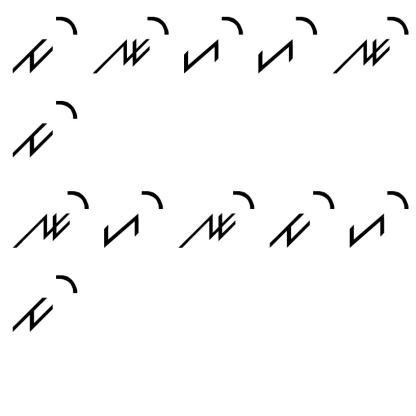hay: (253, 8, 321, 76), (346, 186, 411, 251), (100, 184, 164, 250), (179, 12, 245, 75)
mbay: (3, 10, 84, 77), (8, 270, 80, 338), (9, 95, 80, 160), (266, 188, 336, 250)
nday: (325, 10, 411, 76), (12, 182, 92, 250), (176, 184, 256, 250), (91, 13, 170, 76)
